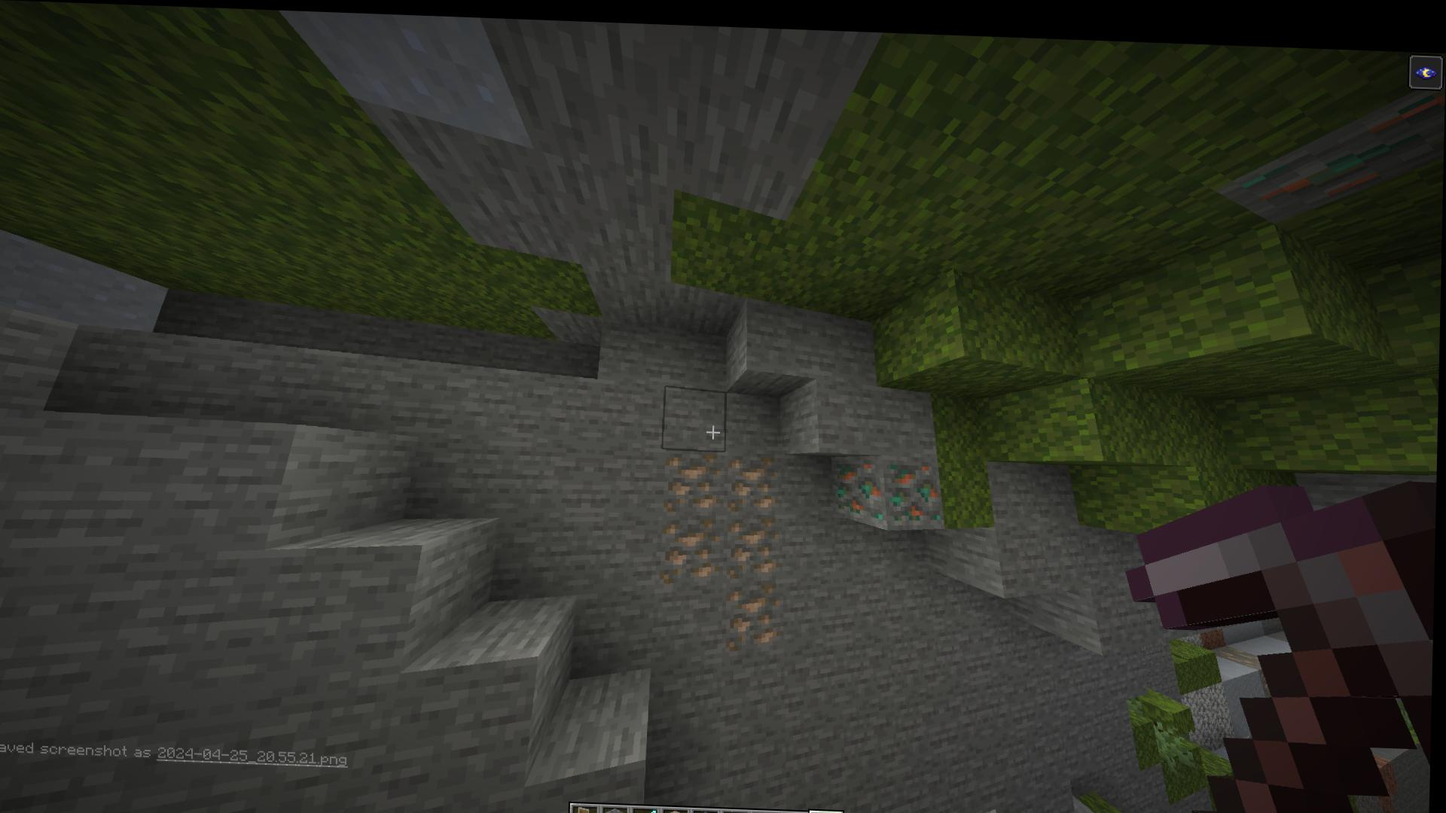iron ore: (724, 575, 789, 647), (723, 506, 788, 576), (663, 510, 723, 582), (666, 439, 726, 508), (722, 443, 781, 510)
